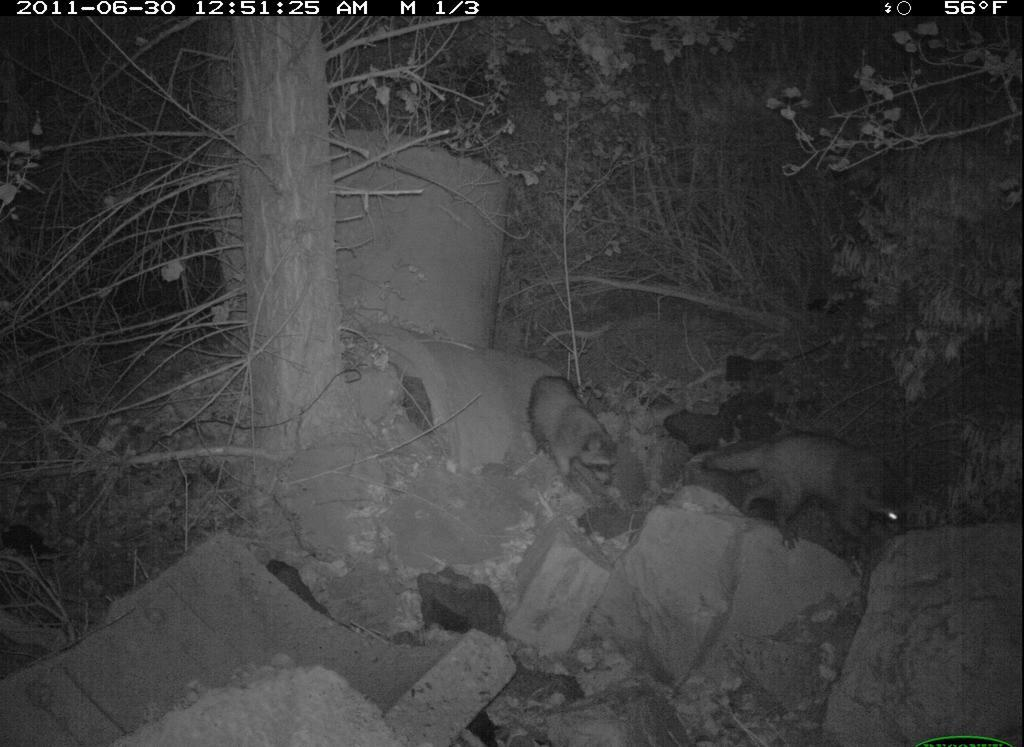raccoon: (699, 417, 925, 550), (523, 373, 624, 497)
